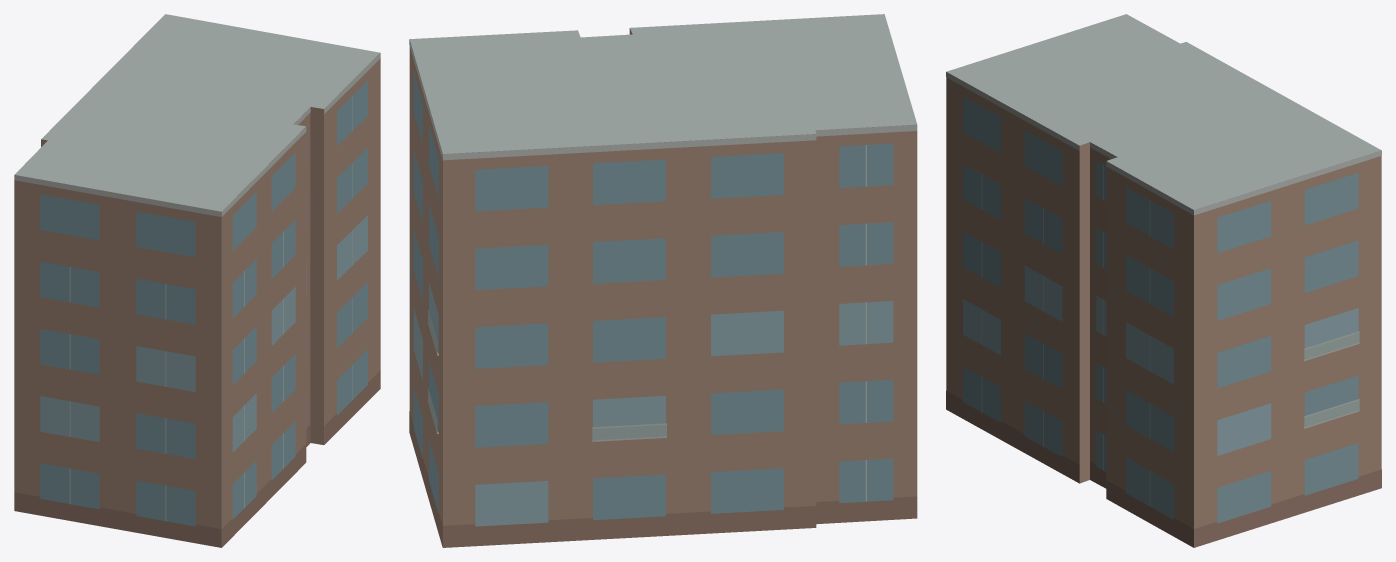
The model's file is survey-upis-32816015.glb.
The picture shows the model from 3 angles, left to right: view 1: azimuth 30°, elevation 25°; view 2: azimuth 150°, elevation 25°; view 3: azimuth 270°, elevation 25°; orthographic projection. The views are drawn at different scales.
Parts seen in each view (by area): view 1: survey-upis-32816015.tmp; view 2: survey-upis-32816015.tmp; view 3: survey-upis-32816015.tmp.
Part boxes in pixels (left/top/right/bottom): survey-upis-32816015.tmp: left=14, top=14, right=380, bottom=547; survey-upis-32816015.tmp: left=409, top=14, right=917, bottom=547; survey-upis-32816015.tmp: left=946, top=14, right=1381, bottom=547.
Bounding box in the file's own units: 18.94 × 15.21 × 17.78.
